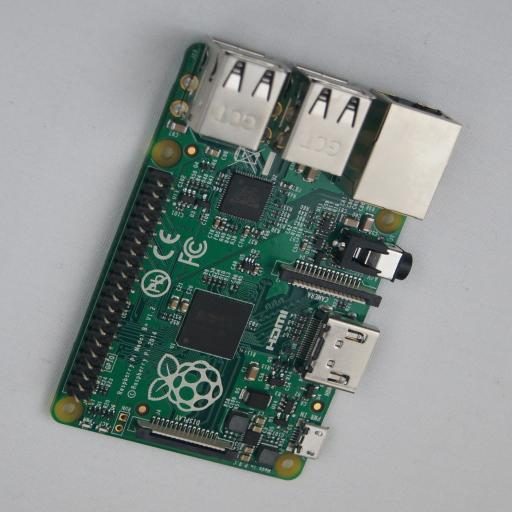Raspberry Pi 1 B-: (50, 37, 451, 480)
